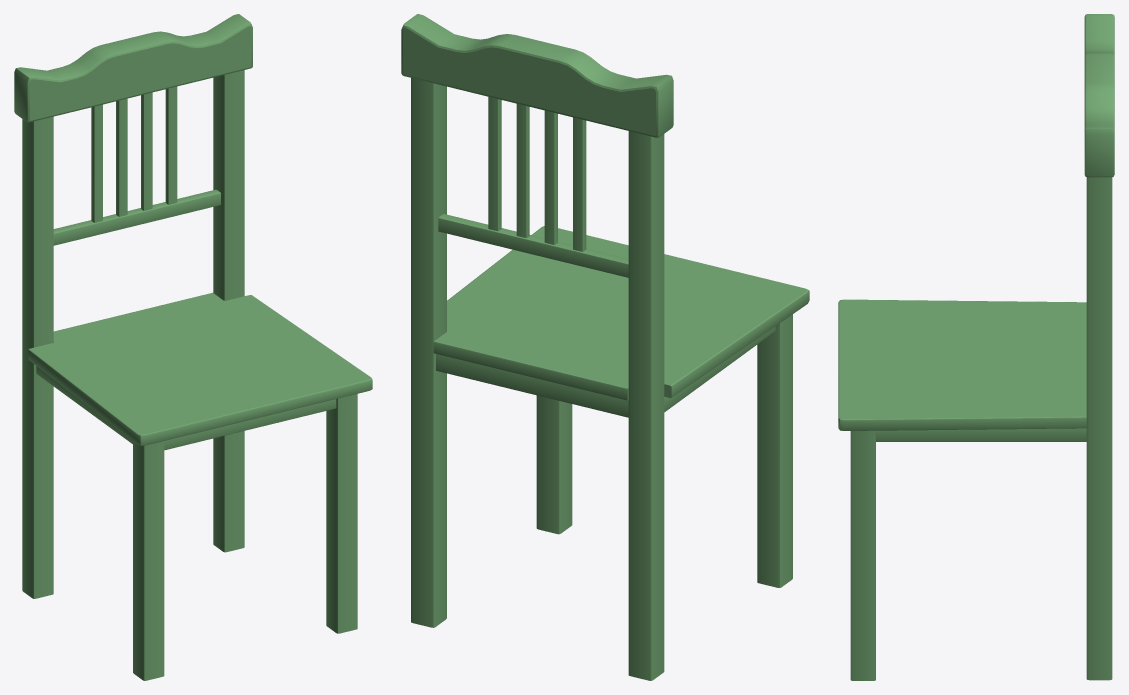
File: Chair.fbx
The picture shows the model from 3 angles, left to right: view 1: azimuth 30°, elevation 25°; view 2: azimuth 150°, elevation 25°; view 3: azimuth 270°, elevation 25°; orthographic projection. The views are drawn at different scales.
Visible parts, largest first — view 1: krzesłoUV001; view 2: krzesłoUV001; view 3: krzesłoUV001.
Part boxes in pixels (x1,y1,x2,y2): krzesłoUV001: (14,14,372,680); krzesłoUV001: (401,14,809,680); krzesłoUV001: (838,14,1114,680).
Bounding box in the file's own units: 44.79 × 96.14 × 43.28.
